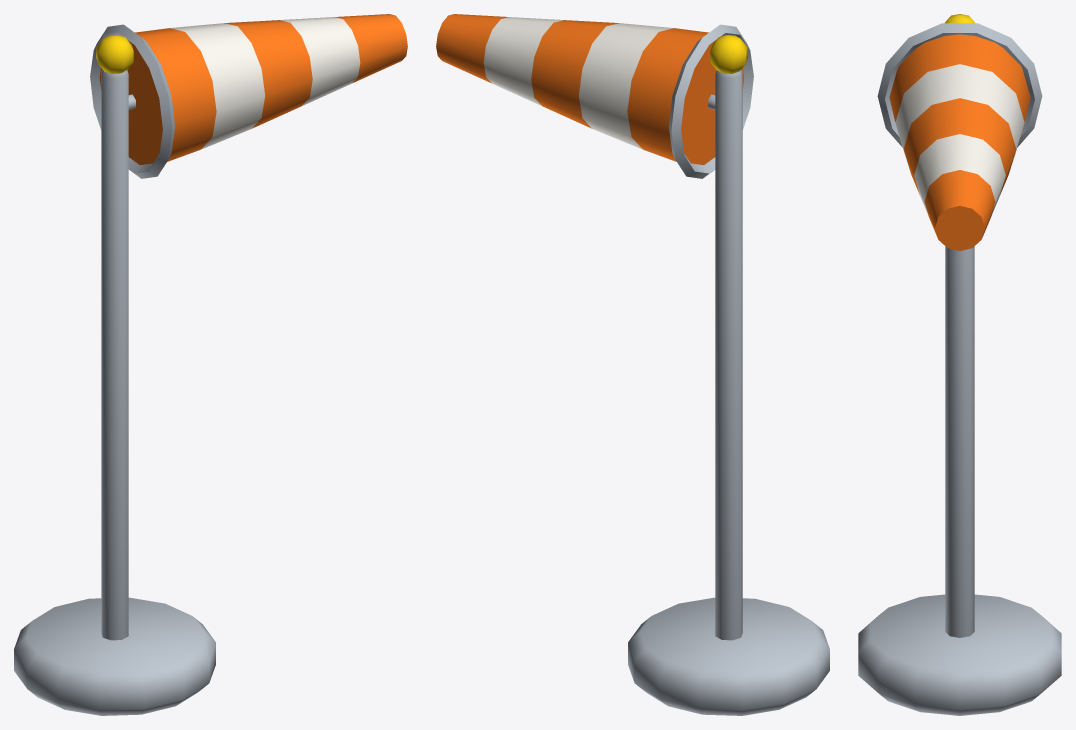
File: H08_WindSock.fbx
3 renders of one model, left to right at view 1: azimuth 30°, elevation 25°; view 2: azimuth 150°, elevation 25°; view 3: azimuth 270°, elevation 25°, orthographic. The views are drawn at different scales.
Parts seen in each view (by area): view 1: Static, Sock; view 2: Static, Sock; view 3: Static, Sock.
Boxes of the visible parts, x1=… form: Static: x1=14, y1=35, x2=215, y2=715; Sock: x1=90, y1=14, x2=407, y2=178; Static: x1=628, y1=35, x2=829, y2=715; Sock: x1=436, y1=14, x2=753, y2=178; Static: x1=858, y1=14, x2=1061, y2=715; Sock: x1=877, y1=23, x2=1042, y2=250.
Bounding box in the file's own units: 2.1 × 3.51 × 0.9749.
